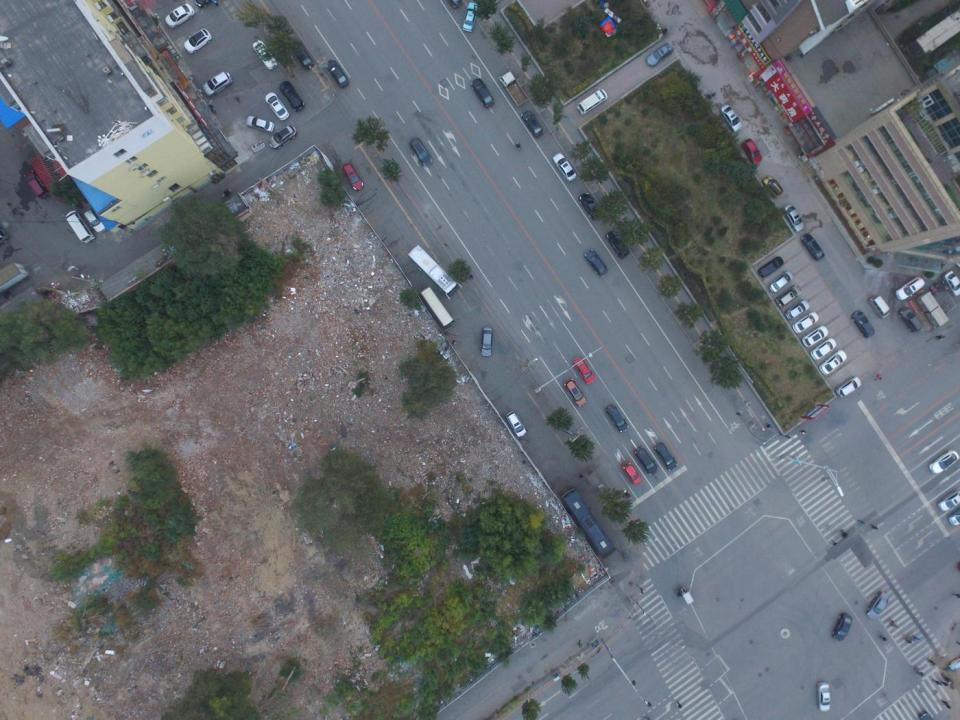bus: (407, 245, 462, 299), (420, 287, 456, 334)
car: (406, 136, 433, 166), (24, 169, 49, 201), (469, 78, 494, 109), (606, 229, 632, 258), (253, 40, 278, 70), (635, 445, 660, 475), (266, 91, 290, 122), (269, 123, 296, 150), (896, 307, 922, 335), (280, 82, 304, 112), (848, 311, 875, 337), (929, 450, 957, 475), (554, 152, 578, 181), (182, 28, 212, 51), (867, 590, 888, 622), (573, 356, 597, 384), (607, 405, 630, 434), (820, 350, 846, 375), (166, 3, 194, 26), (326, 59, 348, 88), (831, 612, 852, 642), (722, 104, 743, 134), (646, 42, 672, 66), (656, 442, 677, 471), (344, 164, 365, 193), (586, 250, 606, 280), (522, 110, 542, 140), (565, 378, 586, 406), (758, 256, 783, 279), (802, 324, 827, 347), (579, 192, 601, 218), (811, 337, 837, 359), (245, 115, 275, 134), (802, 235, 825, 259), (461, 2, 478, 32), (794, 314, 818, 335), (937, 490, 960, 511), (744, 139, 762, 165), (788, 206, 804, 234), (943, 268, 960, 294), (763, 177, 785, 197), (481, 325, 494, 357), (786, 302, 808, 320), (623, 462, 640, 485), (818, 682, 831, 712), (771, 272, 790, 292), (948, 510, 960, 526)
truck: (561, 486, 615, 558), (498, 73, 530, 107)
van: (64, 210, 95, 243), (577, 87, 607, 115), (894, 277, 926, 300), (203, 72, 231, 96), (834, 376, 864, 398), (778, 287, 800, 310), (508, 411, 526, 439), (869, 296, 891, 318), (296, 42, 314, 66), (86, 211, 105, 233)
